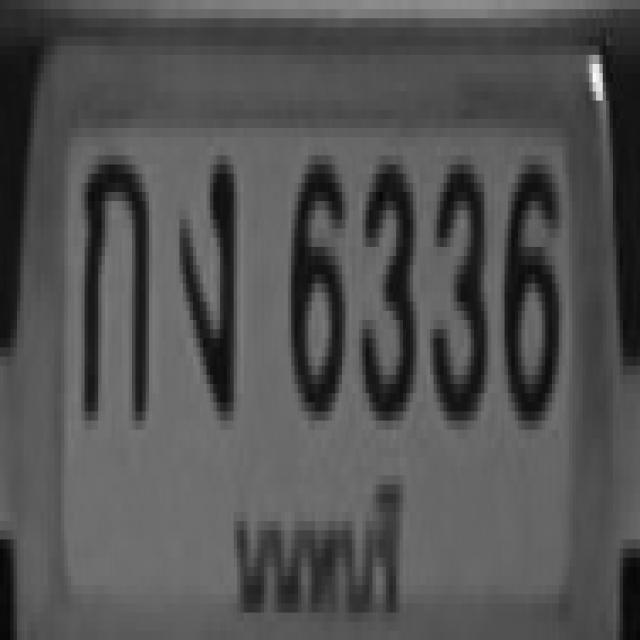10GorGai: (78, 146, 145, 412)
16NgorNgu: (176, 142, 234, 407)
3: (427, 156, 484, 412), (359, 156, 413, 412)
6: (288, 146, 342, 412), (502, 156, 556, 412)
Nonthaburi: (222, 462, 405, 620)
